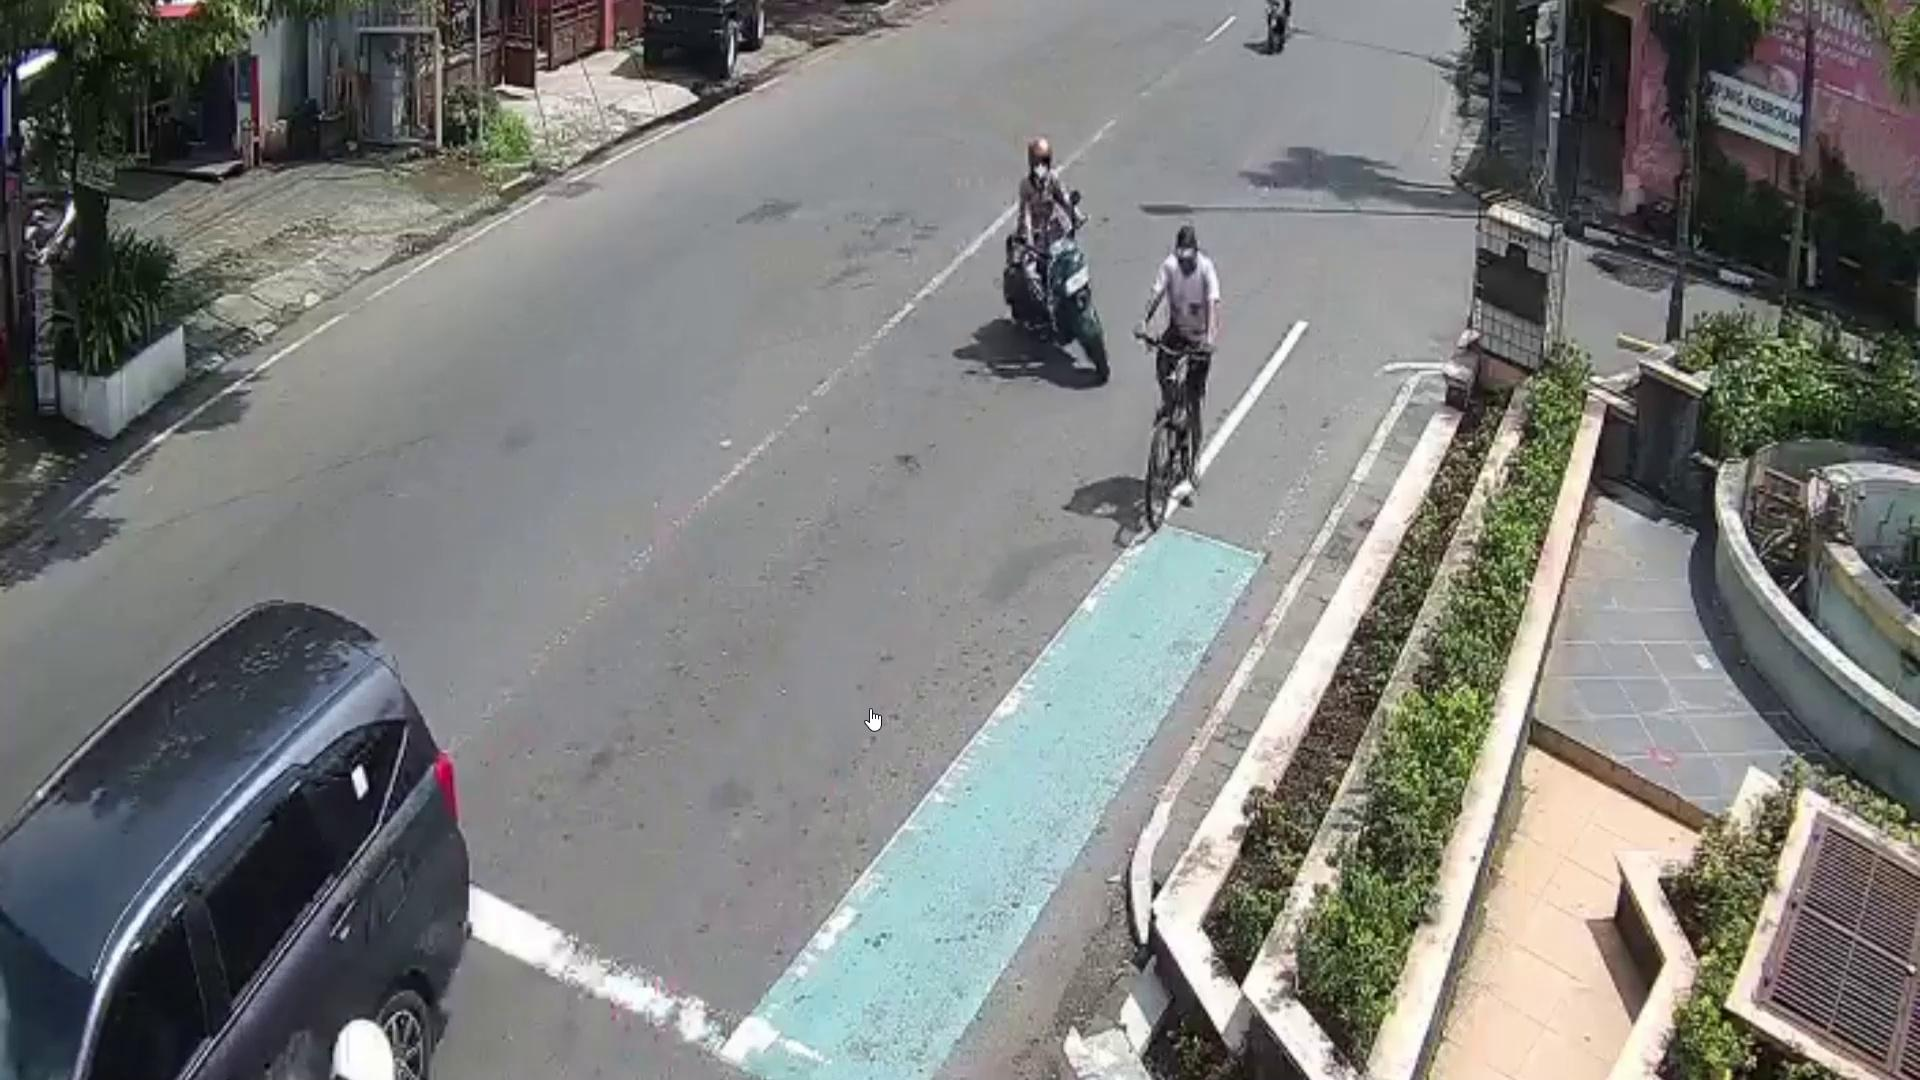car: (0, 576, 471, 1080)
motorbike: (1002, 232, 1118, 385)
